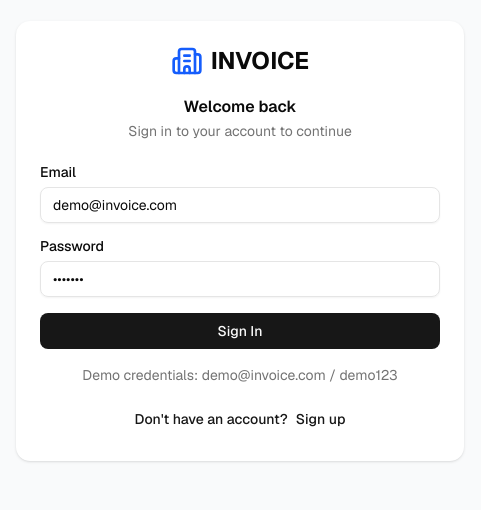
Test: Login Component › displays error message on failed login
Click the button "Sign In" at (240, 331), box [40,313,440,349]
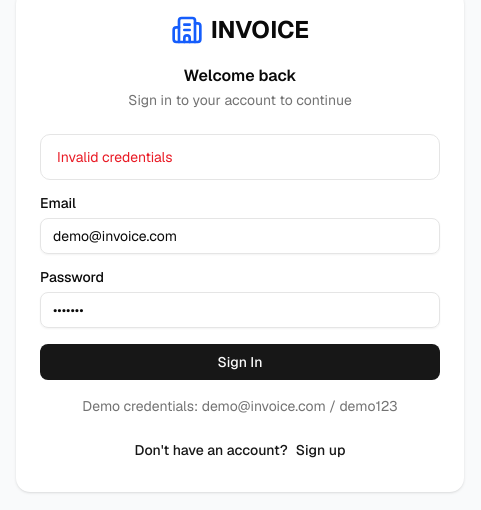
Check: the text "Invalid credentials" is shown, box [57,148,172,166]
